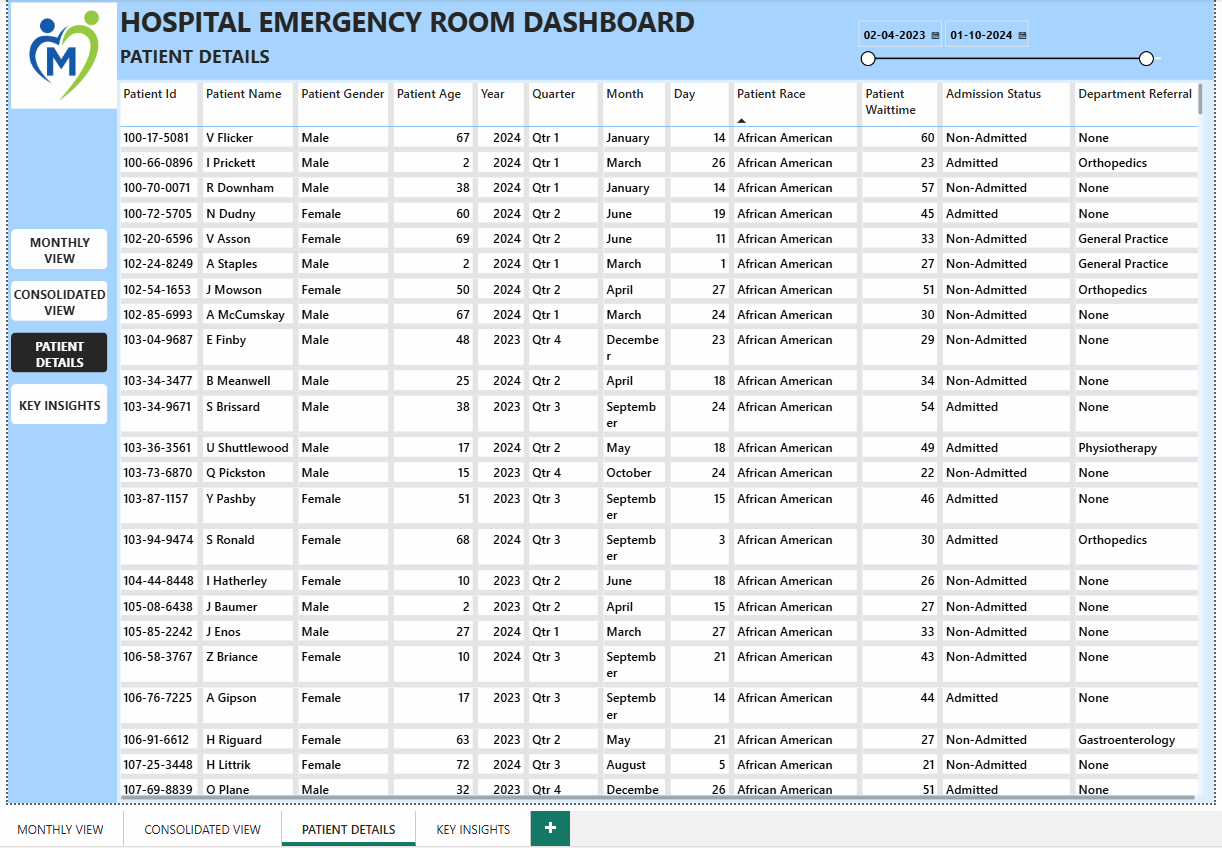

What the dashboard file says about the page in this screenshot:
{"tool":"powerbi","page":{"name":"PATIENT DETAILS","canvas":[2100,1400],"ordinal":2},"visuals":[{"type":"shape","box":[0,0,189.8,1400],"z":0},{"type":"shape","box":[189.8,1.7,1910.2,139.3],"z":1000},{"type":"textbox","box":[189.8,0,1318.2,101],"z":2000},{"type":"textbox","box":[189.8,71.4,435.3,88.8],"z":3000},{"type":"slicer","fields":{"Values":["Date Table.Date"]},"box":[1467.9,27.9,560.7,111.4],"z":4000},{"type":"textbox","box":[285.6,151.5,290.8,88.8],"z":5000},{"type":"textbox","box":[774.9,149.8,243.8,83.6],"z":6000},{"type":"textbox","box":[1225.9,151.5,358.7,88.8],"z":7000},{"type":"textbox","box":[1706.5,149.8,358.7,87.1],"z":8000},{"type":"tableEx","fields":{"Values":["Hospital ER_Data.Patient Id","Hospital ER_Data.Patient Full Name","Hospital ER_Data.Patient Gender","Sum(Hospital ER_Data.Patient Age)","Hospital ER_Data.Patient Admission Date.Variation.Date Hierarchy.Year","Hospital ER_Data.Patient Admission Date.Variation.Date Hierarchy.Quarter","Hospital ER_Data.Patient Admission Date.Variation.Date Hierarchy.Month","Hospital ER_Data.Patient Admission Date.Variation.Date Hierarchy.Day","Hospital ER_Data.Patient Race","Sum(Hospital ER_Data.Patient Waittime)","Hospital ER_Data.Admission Status","Hospital ER_Data.Department Referral"]},"box":[189.8,141,1896.3,1259],"z":9000},{"type":"pageNavigator","box":[5.2,400.5,168.9,341.3],"z":10000},{"type":"image","box":[5.2,0,184.6,196.8],"z":10001}]}

Visuals, with their boxes on the page's 2100x1400 design canvas (x1, y1, x2, y2). These are canvas units, not pixel positions in the 1222x848 screenshot, which may show the page scaled, cropped or inside an application window:
shape: <box>0,0,190,1400</box>
shape: <box>190,2,2100,141</box>
textbox: <box>190,0,1508,101</box>
textbox: <box>190,71,625,160</box>
slicer - Date Table.Date: <box>1468,28,2029,139</box>
textbox: <box>286,152,576,240</box>
textbox: <box>775,150,1019,233</box>
textbox: <box>1226,152,1585,240</box>
textbox: <box>1706,150,2065,237</box>
tableEx - Hospital ER_Data.Patient Id x Hospital ER_Data.Patient Full Name: <box>190,141,2086,1400</box>
pageNavigator: <box>5,400,174,742</box>
image: <box>5,0,190,197</box>
